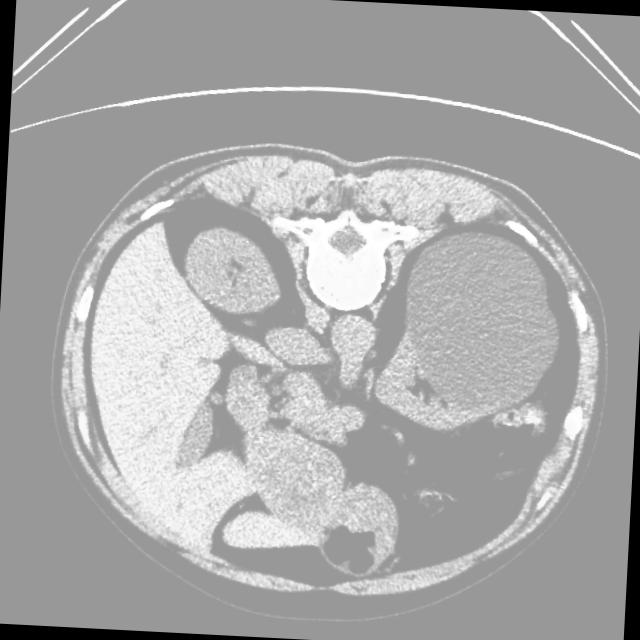cysts: (43, 135, 614, 617)
